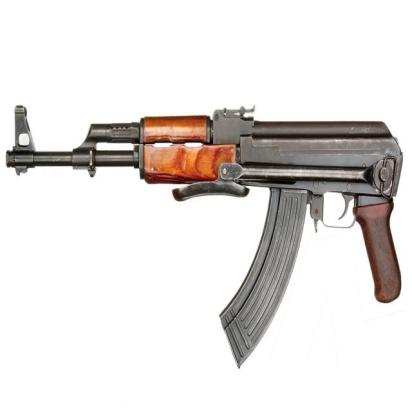Gun: (8, 106, 402, 359)
